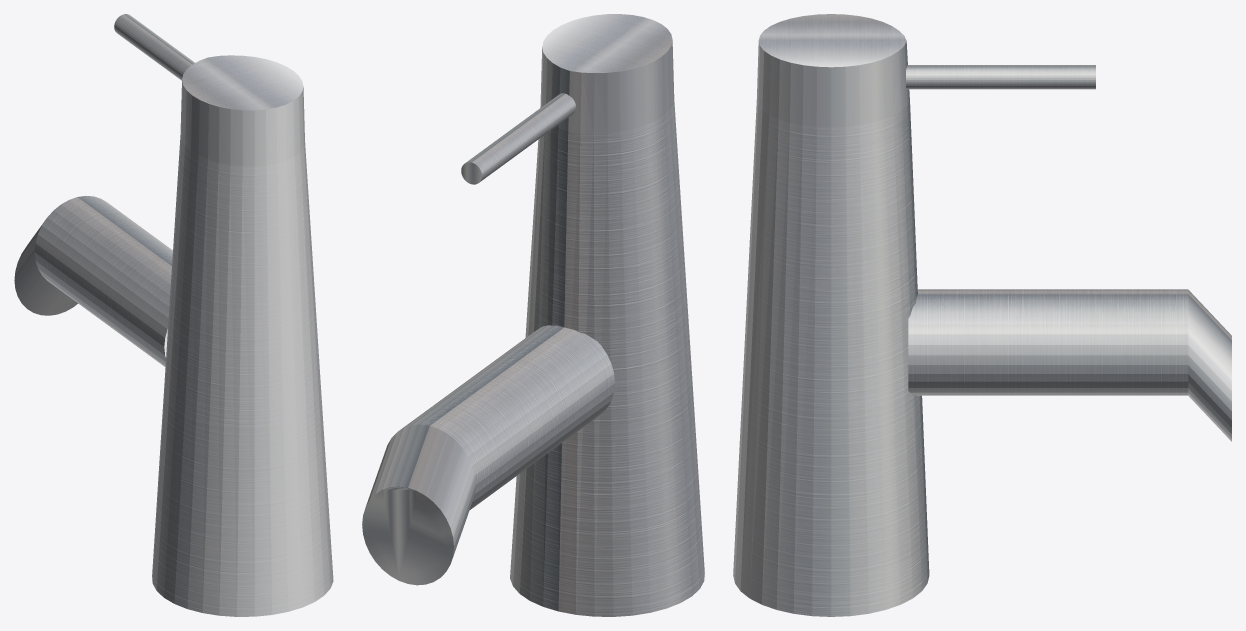
Rendered from lavamanos.fbx.
3 renders of one model, left to right at view 1: azimuth 30°, elevation 25°; view 2: azimuth 150°, elevation 25°; view 3: azimuth 270°, elevation 25°, orthographic. The views are drawn at different scales.
Parts seen in each view (by area): view 1: Cylinder; view 2: Cylinder; view 3: Cylinder.
Boxes of the visible parts, left/top/right/bottom form: Cylinder: left=14, top=14, right=333, bottom=616; Cylinder: left=362, top=14, right=704, bottom=616; Cylinder: left=733, top=14, right=1231, bottom=616.
Bounding box in the file's own units: 441 × 1325 × 1120.
Materials: 1 (1 with a texture image).
